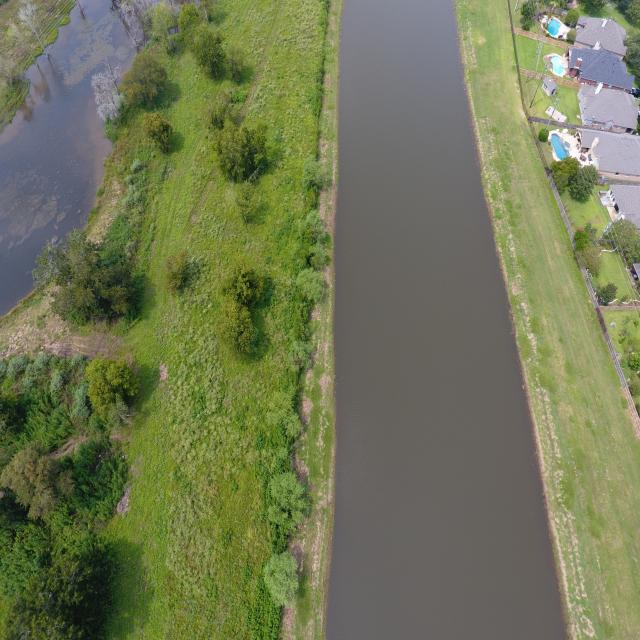fire: (326, 0, 567, 639), (0, 0, 135, 315)
